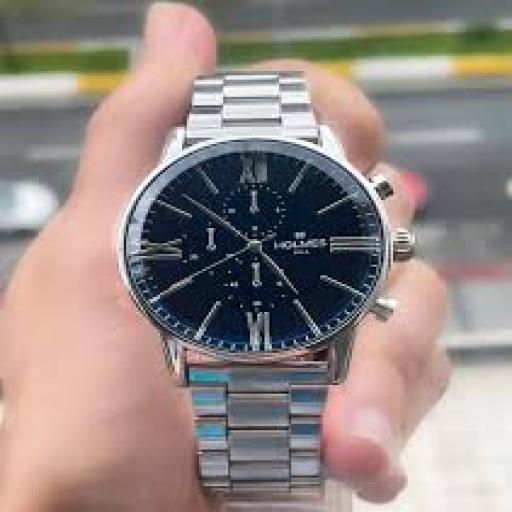KolSaati: (107, 30, 418, 512)
